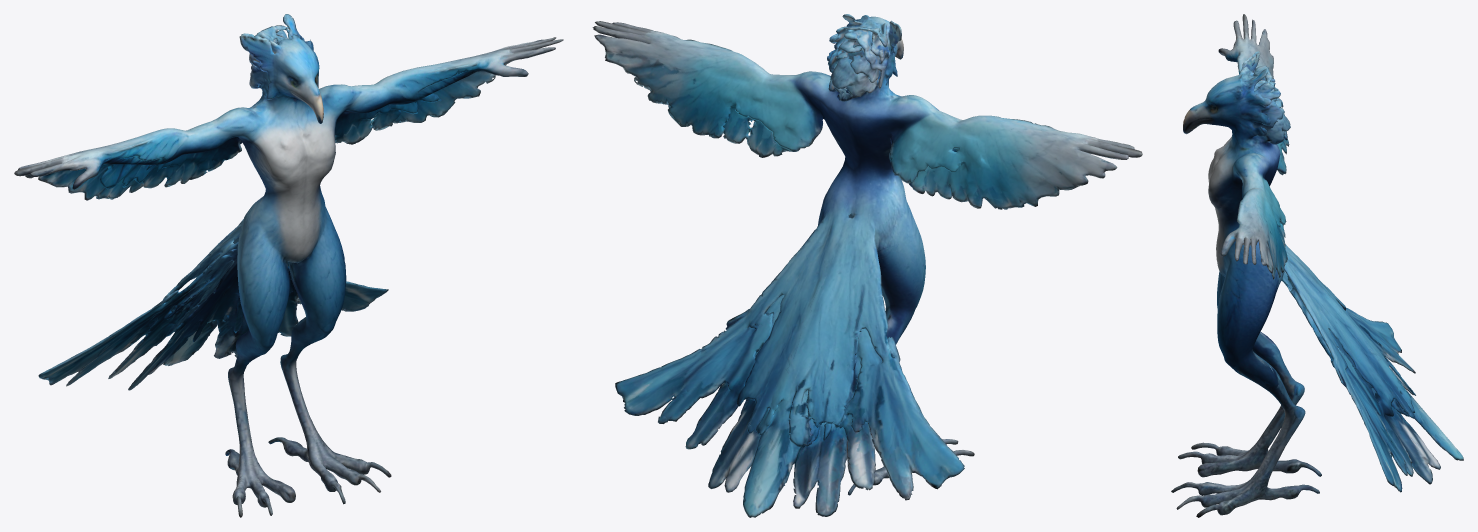
Rendered from Avian_character_ant_0907205627.glb.
The picture shows the model from 3 angles, left to right: view 1: azimuth 30°, elevation 25°; view 2: azimuth 150°, elevation 25°; view 3: azimuth 270°, elevation 25°; orthographic projection. The views are drawn at different scales.
Size of the model in its own units: 2.02 by 1.6 by 1.01.
1 material, 1 textured.
